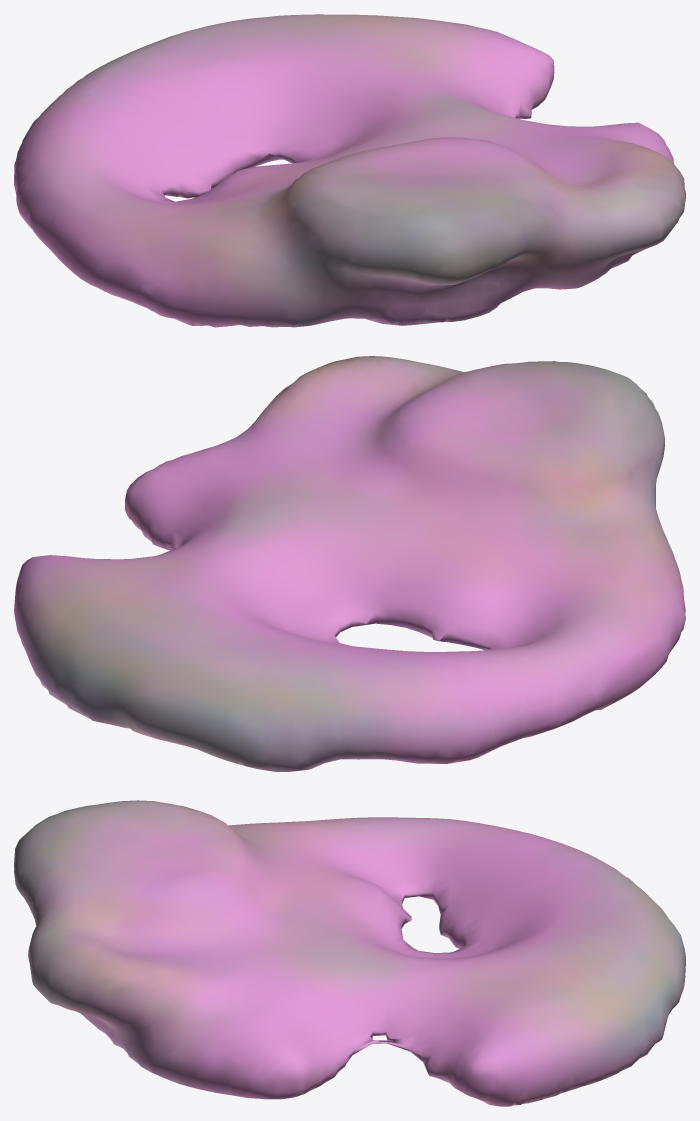
Rendered from rosa 7.fbx.
The picture shows the model from 3 angles, top to bottom: view 1: azimuth 30°, elevation 25°; view 2: azimuth 150°, elevation 25°; view 3: azimuth 270°, elevation 25°; orthographic projection. The views are drawn at different scales.
Visible parts, largest first — view 1: rosa; view 2: rosa; view 3: rosa.
Boxes of the visible parts, box(x1,y1,x2,y2) form: rosa: box(14, 14, 685, 327); rosa: box(14, 356, 685, 771); rosa: box(14, 800, 685, 1106).
Size of the model in its own units: 3766 by 1029 by 4293.
